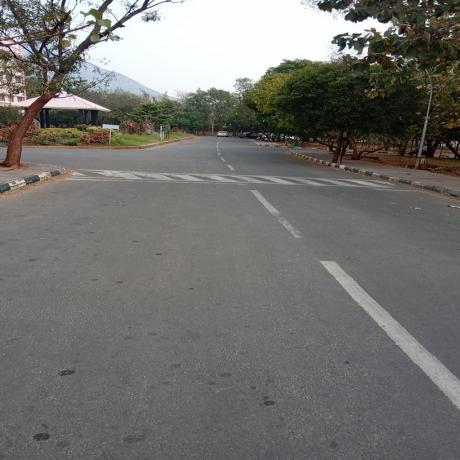Speed Bump: (64, 169, 406, 190)
